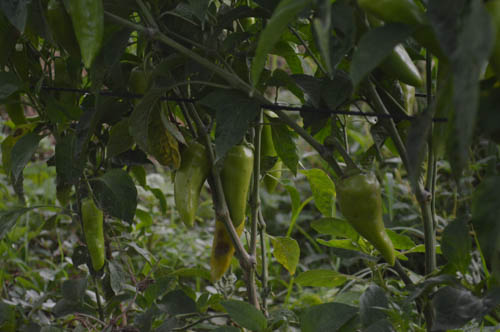ChiliPepper: (342, 170, 399, 263), (219, 146, 257, 224), (175, 143, 209, 229), (68, 5, 109, 64), (81, 199, 108, 267)
